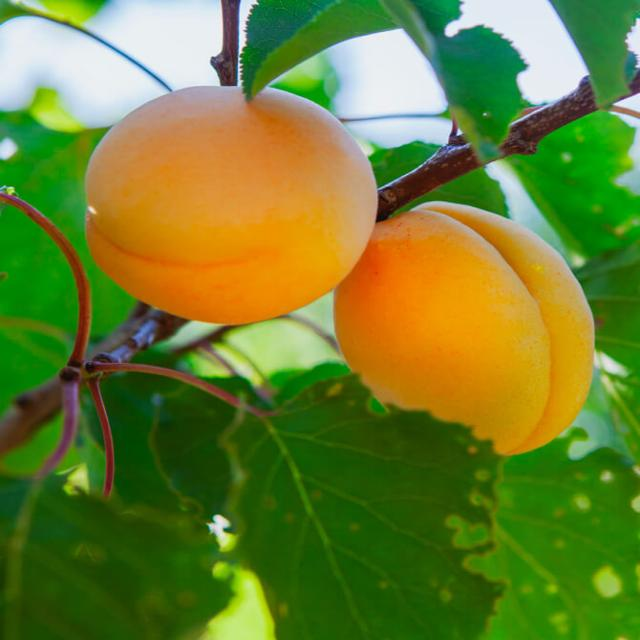kayisi: (88, 77, 379, 326), (332, 215, 601, 458)
kayisi yapragi: (200, 376, 519, 640), (0, 455, 224, 639), (82, 340, 255, 527), (506, 440, 640, 639), (239, 0, 479, 97), (432, 21, 551, 147), (548, 0, 640, 109)
